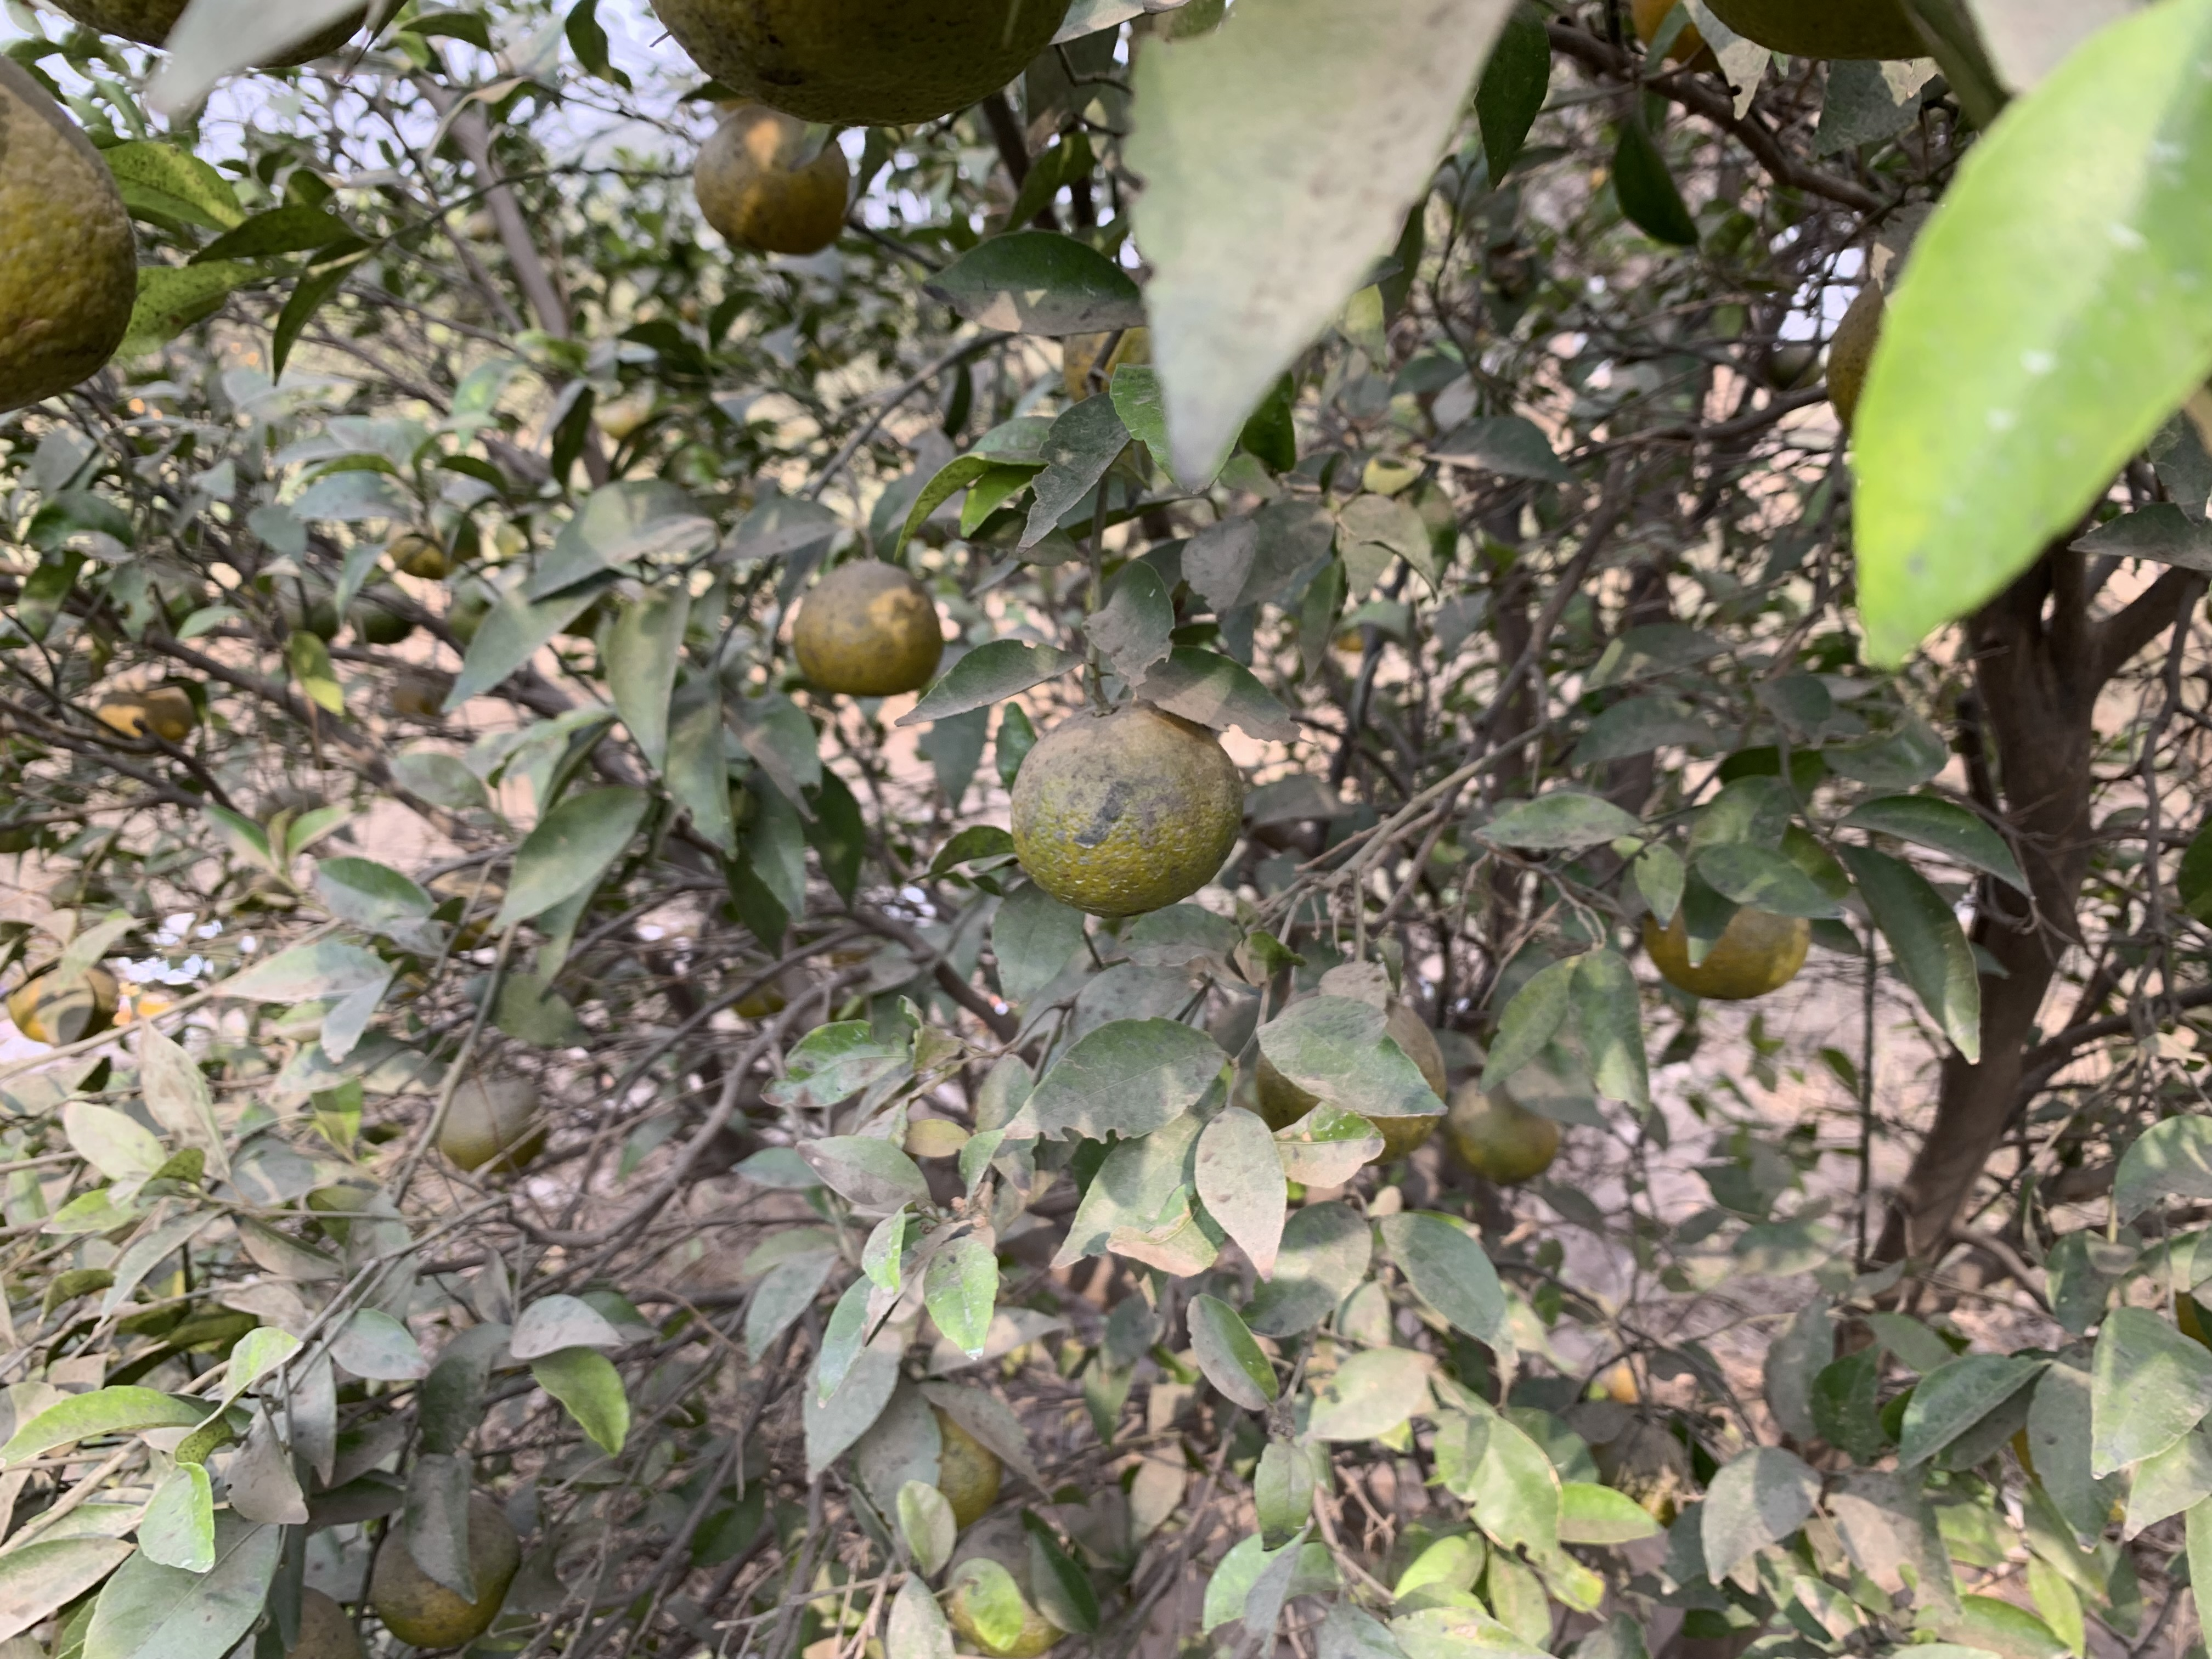orange: (648, 0, 1073, 124), (1012, 699, 1242, 913), (2, 49, 138, 408), (1256, 1002, 1442, 1166), (368, 1495, 523, 1649), (693, 106, 848, 256), (794, 561, 946, 701), (944, 1520, 1076, 1656), (1641, 903, 1811, 1000), (1447, 1073, 1559, 1187), (1592, 1420, 1696, 1527), (439, 1072, 547, 1168), (7, 962, 122, 1042), (1827, 281, 1885, 437), (934, 1406, 1003, 1530), (94, 680, 193, 753), (286, 1584, 362, 1659), (394, 518, 482, 580), (273, 573, 341, 643), (1629, 2, 1705, 63), (348, 579, 413, 647), (725, 964, 787, 1019), (1766, 347, 1822, 390)
